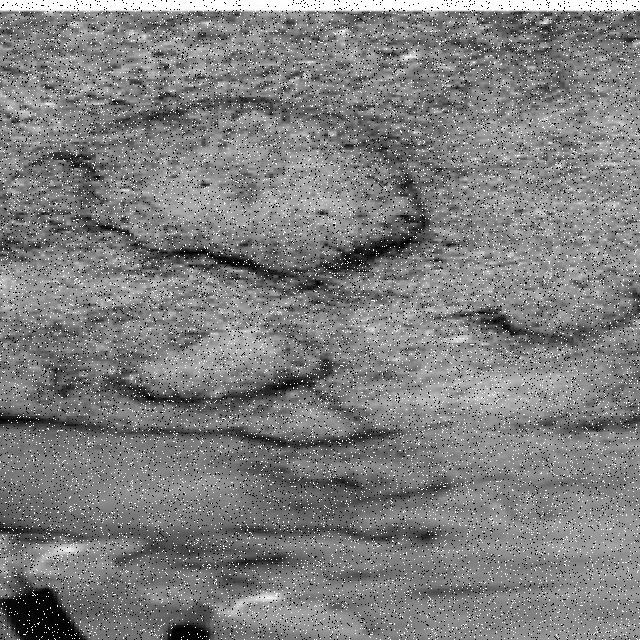pothole: (88, 98, 427, 282), (112, 330, 337, 406), (461, 267, 638, 339)
